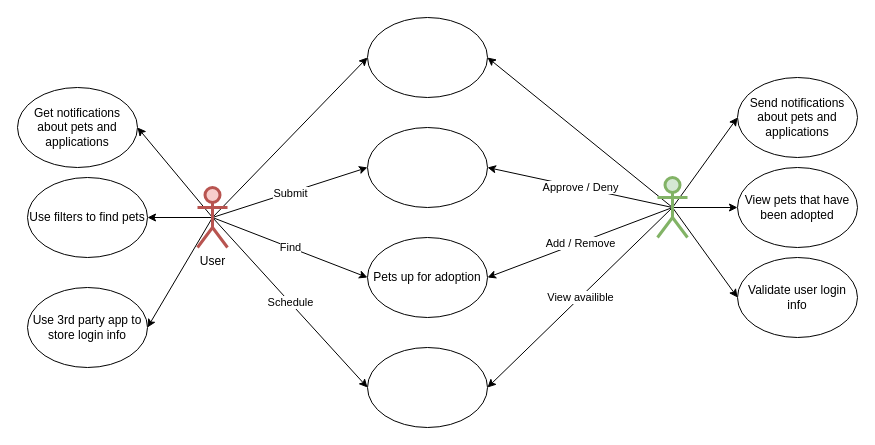
Some shapes in this 875 by 445 pixel diagram are drawn without their labels. The centre of each missing label's shape, as x and y in pixels:
Admin: [672,207]
Applications: [427,167]
Log into account: [427,57]
Pickup times: [427,387]
